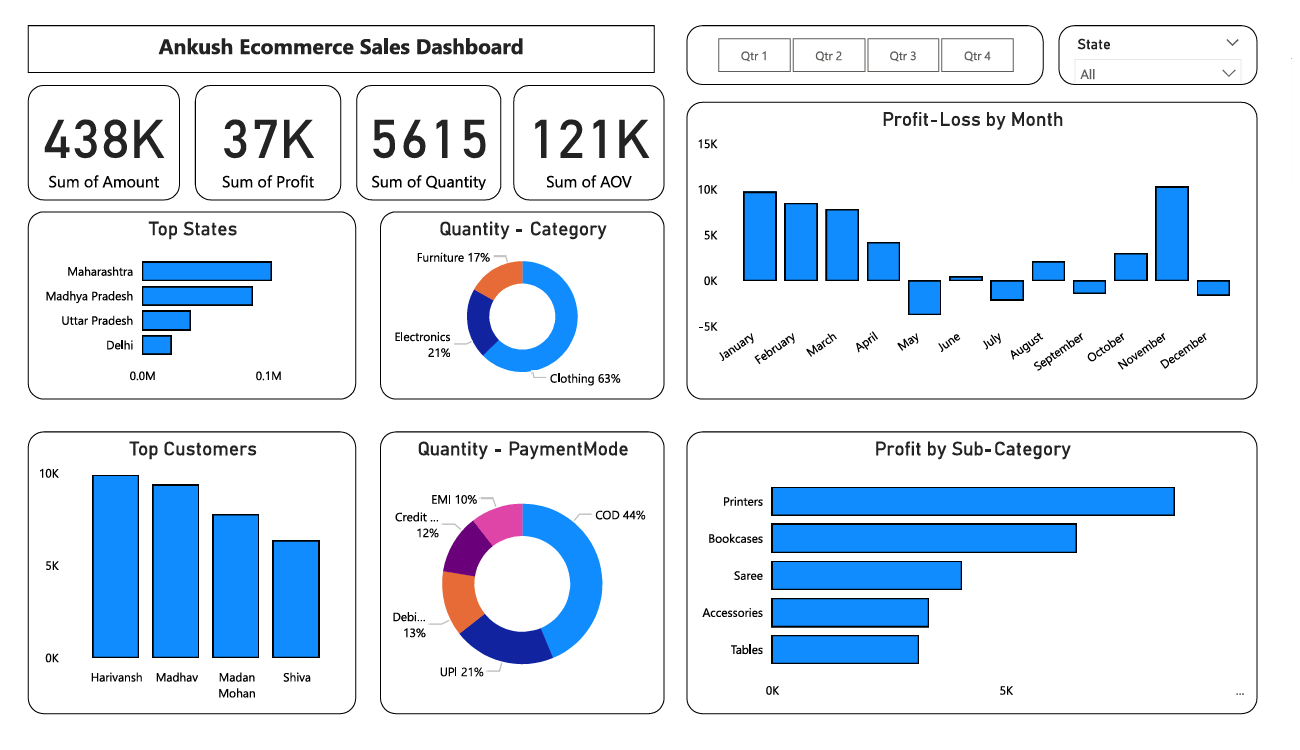

Layout of this report page (visuals, bound fields, positions):
{"tool":"powerbi","page":{"name":"Page 1","canvas":[1280,720],"ordinal":0},"visuals":[{"type":"textbox","box":[9.8,0,629.8,47.7],"z":0},{"type":"columnChart","title":"Profit-Loss by Month","fields":{"Y":["Details.Profit"],"Category":["Orders.Order Date.Variation.Date Hierarchy.Month"]},"box":[672.4,76.8,573.6,299.1],"z":1000},{"type":"barChart","title":" Profit by Sub-Category","fields":{"Category":["Details.Sub-Category"],"Y":["Details.Profit"]},"box":[672.4,407.5,573.6,284],"z":2000},{"type":"donutChart","title":"Quantity - Category","fields":{"Category":["Details.Category"],"Y":["Details.Quantity"]},"box":[363.6,186.6,286.8,189.4],"z":3000},{"type":"donutChart","title":"Quantity - PaymentMode","fields":{"Category":["Details.PaymentMode"],"Y":["Details.Quantity"]},"box":[363.6,407.5,286.8,284],"z":4000},{"type":"card","fields":{"Values":["Details.Amount"]},"box":[9.6,60.4,153.7,115.3],"z":5000},{"type":"card","fields":{"Values":["Details.Profit"]},"box":[178.4,60.4,146.8,115.3],"z":6000},{"type":"card","fields":{"Values":["Details.Quantity"]},"box":[340.3,60.4,145.5,115.3],"z":7000},{"type":"card","fields":{"Values":["Details.AOV"]},"box":[498.1,60.4,152.3,115.3],"z":8000},{"type":"barChart","title":"Top States","fields":{"Category":["Orders.State"],"Y":["Details.Amount"]},"box":[9.6,186.6,330.7,189.4],"z":9000},{"type":"columnChart","title":"Top Customers","fields":{"Category":["Orders.CustomerName"],"Y":["Details.Amount"]},"box":[9.6,407.5,330.7,284],"z":10000},{"type":"slicer","fields":{"Values":["Orders.Order Date.Variation.Date Hierarchy.Quarter"]},"box":[672.4,0,358.1,60.4],"z":11000},{"type":"slicer","fields":{"Values":["Orders.State"]},"box":[1045.6,0,200.3,60.4],"z":12000}]}

Visuals, with their boxes in screenshot pixels (x1, y1, x2, y2), scaled from the page's 1280x720 canvas onto the 1300x750 screenshot:
textbox: {"x1": 10, "y1": 0, "x2": 650, "y2": 50}
"Profit-Loss by Month" columnChart: {"x1": 683, "y1": 80, "x2": 1265, "y2": 392}
" Profit by Sub-Category" barChart: {"x1": 683, "y1": 424, "x2": 1265, "y2": 720}
"Quantity - Category" donutChart: {"x1": 369, "y1": 194, "x2": 661, "y2": 392}
"Quantity - PaymentMode" donutChart: {"x1": 369, "y1": 424, "x2": 661, "y2": 720}
card - Details.Amount: {"x1": 10, "y1": 63, "x2": 166, "y2": 183}
card - Details.Profit: {"x1": 181, "y1": 63, "x2": 330, "y2": 183}
card - Details.Quantity: {"x1": 346, "y1": 63, "x2": 493, "y2": 183}
card - Details.AOV: {"x1": 506, "y1": 63, "x2": 661, "y2": 183}
"Top States" barChart: {"x1": 10, "y1": 194, "x2": 346, "y2": 392}
"Top Customers" columnChart: {"x1": 10, "y1": 424, "x2": 346, "y2": 720}
slicer - Orders.Order Date.Variation.Date Hierarchy.Quarter: {"x1": 683, "y1": 0, "x2": 1047, "y2": 63}
slicer - Orders.State: {"x1": 1062, "y1": 0, "x2": 1265, "y2": 63}
